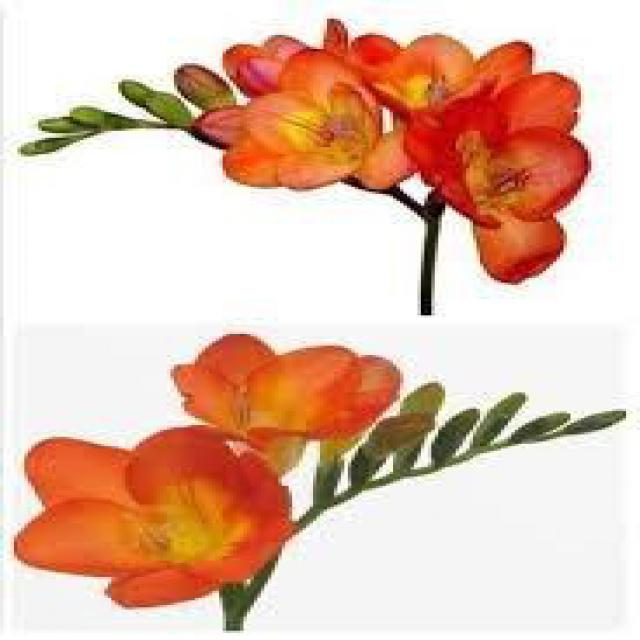freesia: (9, 7, 621, 327), (17, 337, 630, 618), (26, 419, 322, 622), (399, 84, 604, 290), (157, 341, 469, 460), (204, 64, 409, 200)
